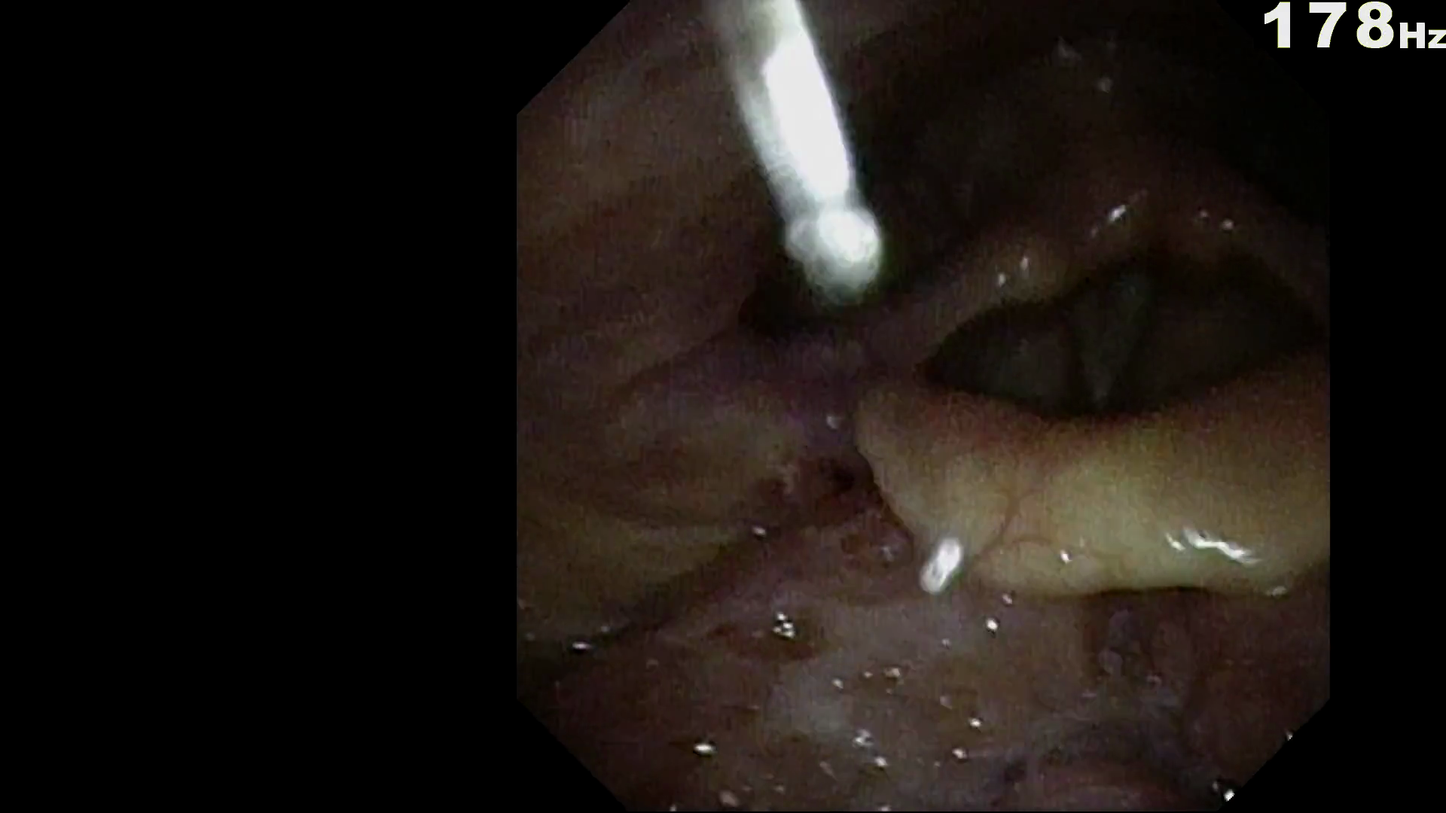epiglottis: (833, 399, 1315, 632)
trachea: (1029, 298, 1176, 452)
